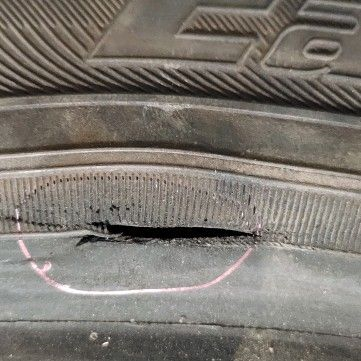cut: (74, 219, 268, 248)
